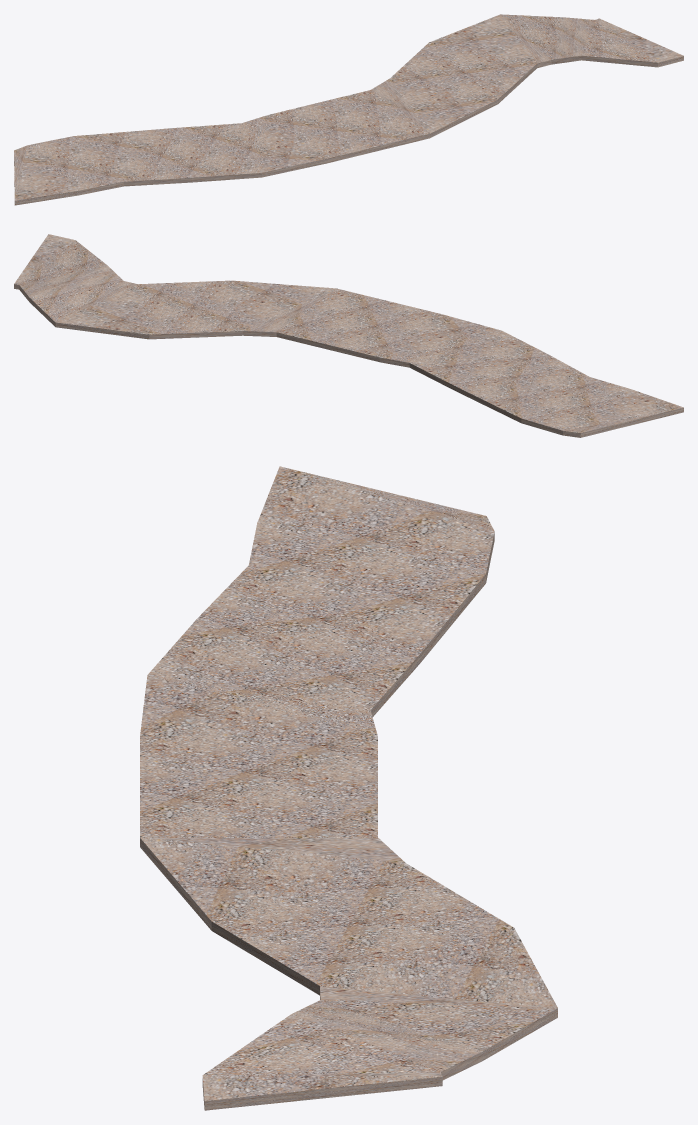
The model's file is road.glb.
The picture shows the model from 3 angles, top to bottom: view 1: azimuth 30°, elevation 25°; view 2: azimuth 150°, elevation 25°; view 3: azimuth 270°, elevation 25°; orthographic projection. The views are drawn at different scales.
Parts seen in each view (by area): view 1: Cube; view 2: Cube; view 3: Cube.
Boxes of the visible parts, x1,y1,x2,y2 form: Cube: [14, 14, 683, 205]; Cube: [14, 234, 683, 437]; Cube: [140, 466, 557, 1110].
Bounding box in the file's own units: 12.61 × 0.1637 × 3.51.
Materials: 1 (1 with a texture image).
